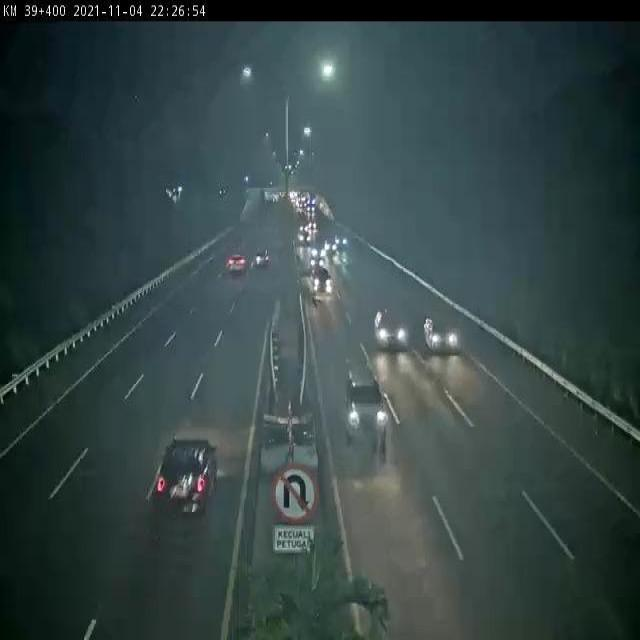car: (153, 432, 219, 519), (339, 362, 389, 447), (419, 308, 462, 364), (371, 303, 411, 356), (308, 264, 336, 300), (249, 246, 274, 274), (222, 250, 250, 274)
